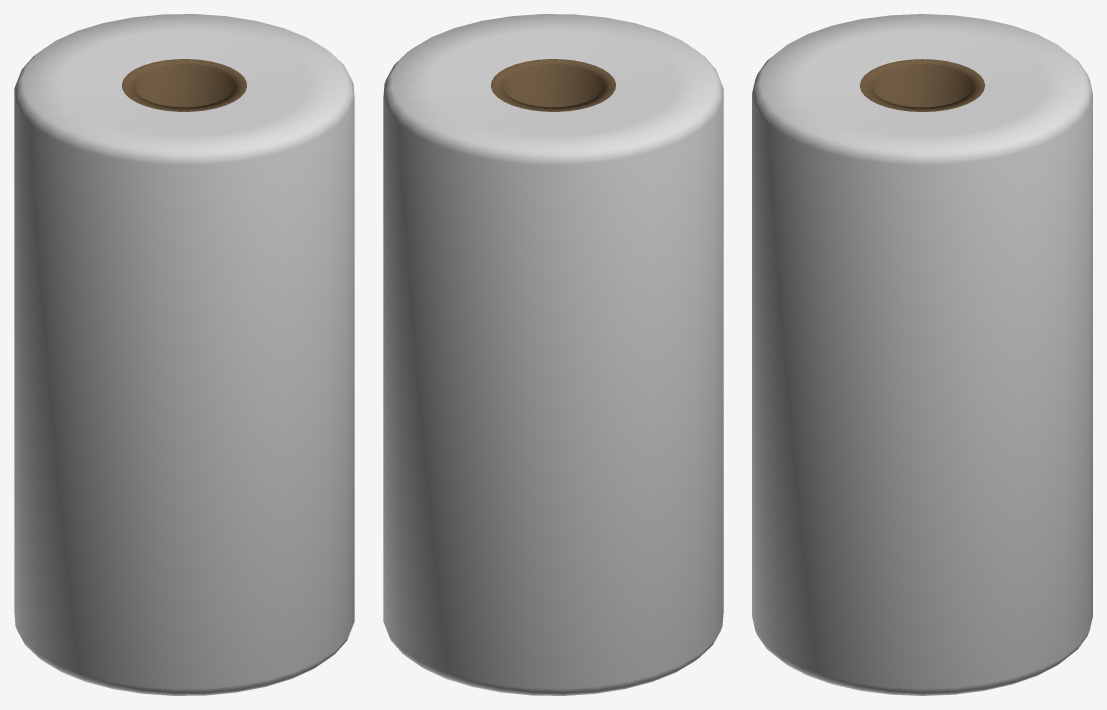
The model's file is PaperTowels.fbx.
3 renders of one model, left to right at view 1: azimuth 30°, elevation 25°; view 2: azimuth 150°, elevation 25°; view 3: azimuth 270°, elevation 25°, orthographic.
Parts seen in each view (by area): view 1: PaperTowel.001; view 2: PaperTowel.001; view 3: PaperTowel.001.
Boxes of the visible parts, x1,y1,x2,y2 form: PaperTowel.001: [14, 14, 354, 695]; PaperTowel.001: [383, 14, 723, 695]; PaperTowel.001: [752, 14, 1092, 695].
Bounding box in the file's own units: 47.94 × 84.57 × 47.94.
